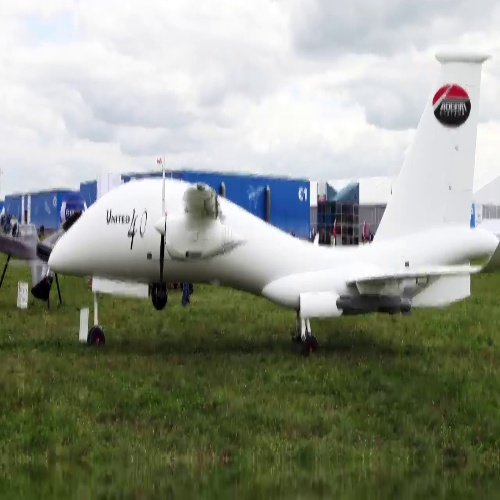uav605: (43, 47, 500, 350)
